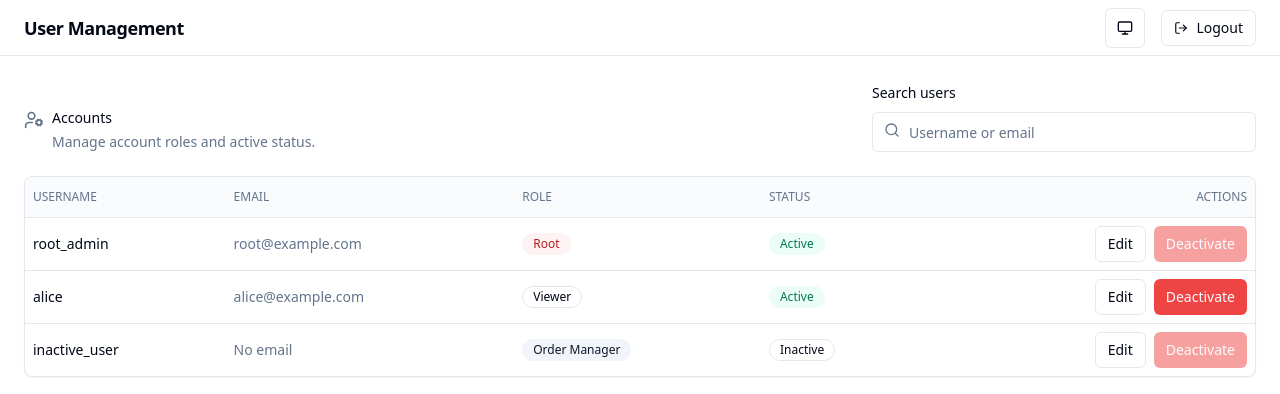
AdminUsersPage self-action guard › disables the role select on the current root user's own row while editing
This screenshot has width=1280, height=394.
Check: the text "root_admin" is shown, box left=33, top=234, right=108, bottom=252
Click the button "Edit" in the row of "root_admin" at [1120, 244], box left=1095, top=226, right=1146, bottom=262
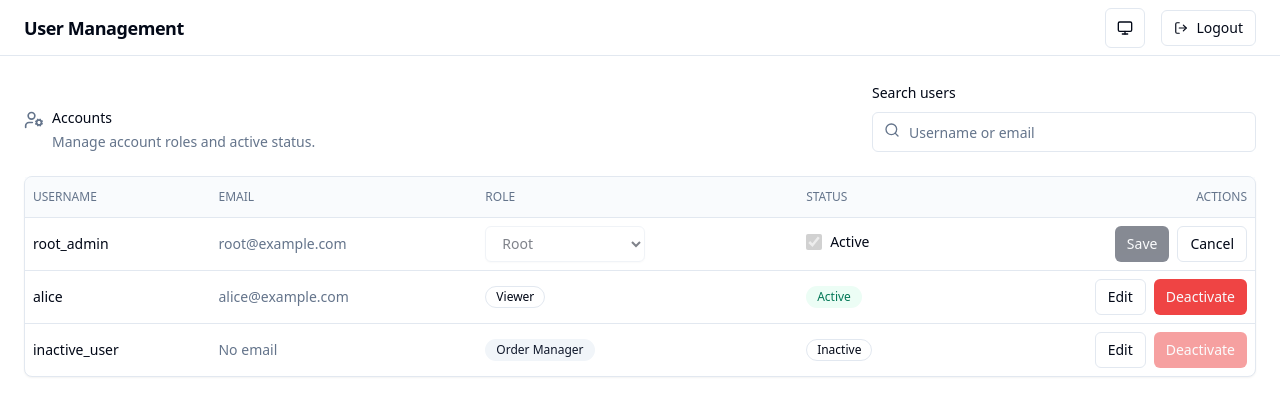
Check: the cell titled "Cannot modify your own account" is shown, box left=477, top=217, right=798, bottom=270
Check: the dropdown named "role for root_admin" is disabled, box left=485, top=226, right=645, bottom=262
